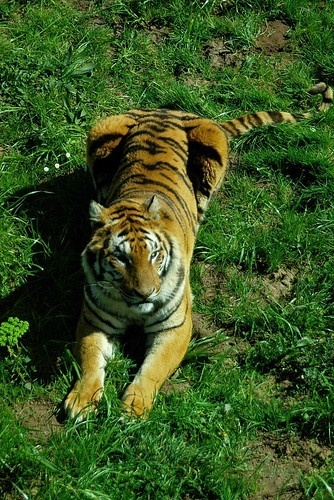tigre: (59, 79, 262, 438)
